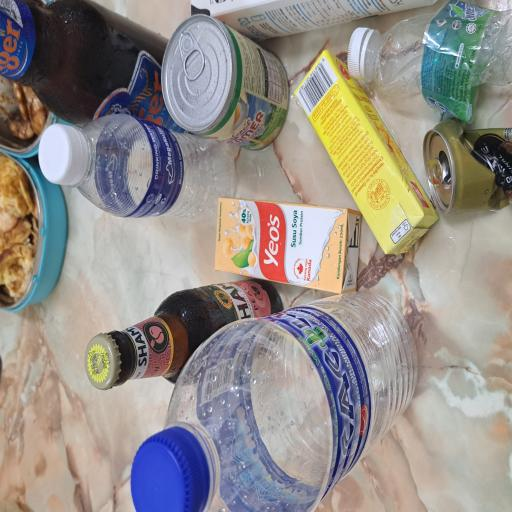can: (270, 215, 374, 384)
drink carton: (192, 391, 346, 512), (164, 287, 236, 484), (356, 254, 384, 512)
glass bottle: (90, 113, 175, 378), (287, 0, 384, 226)
plastic bottle: (0, 219, 166, 512), (219, 103, 299, 315)
plastic bottle cap: (0, 172, 64, 280), (246, 51, 291, 110), (324, 462, 364, 502)
pop tab: (323, 238, 361, 273)
